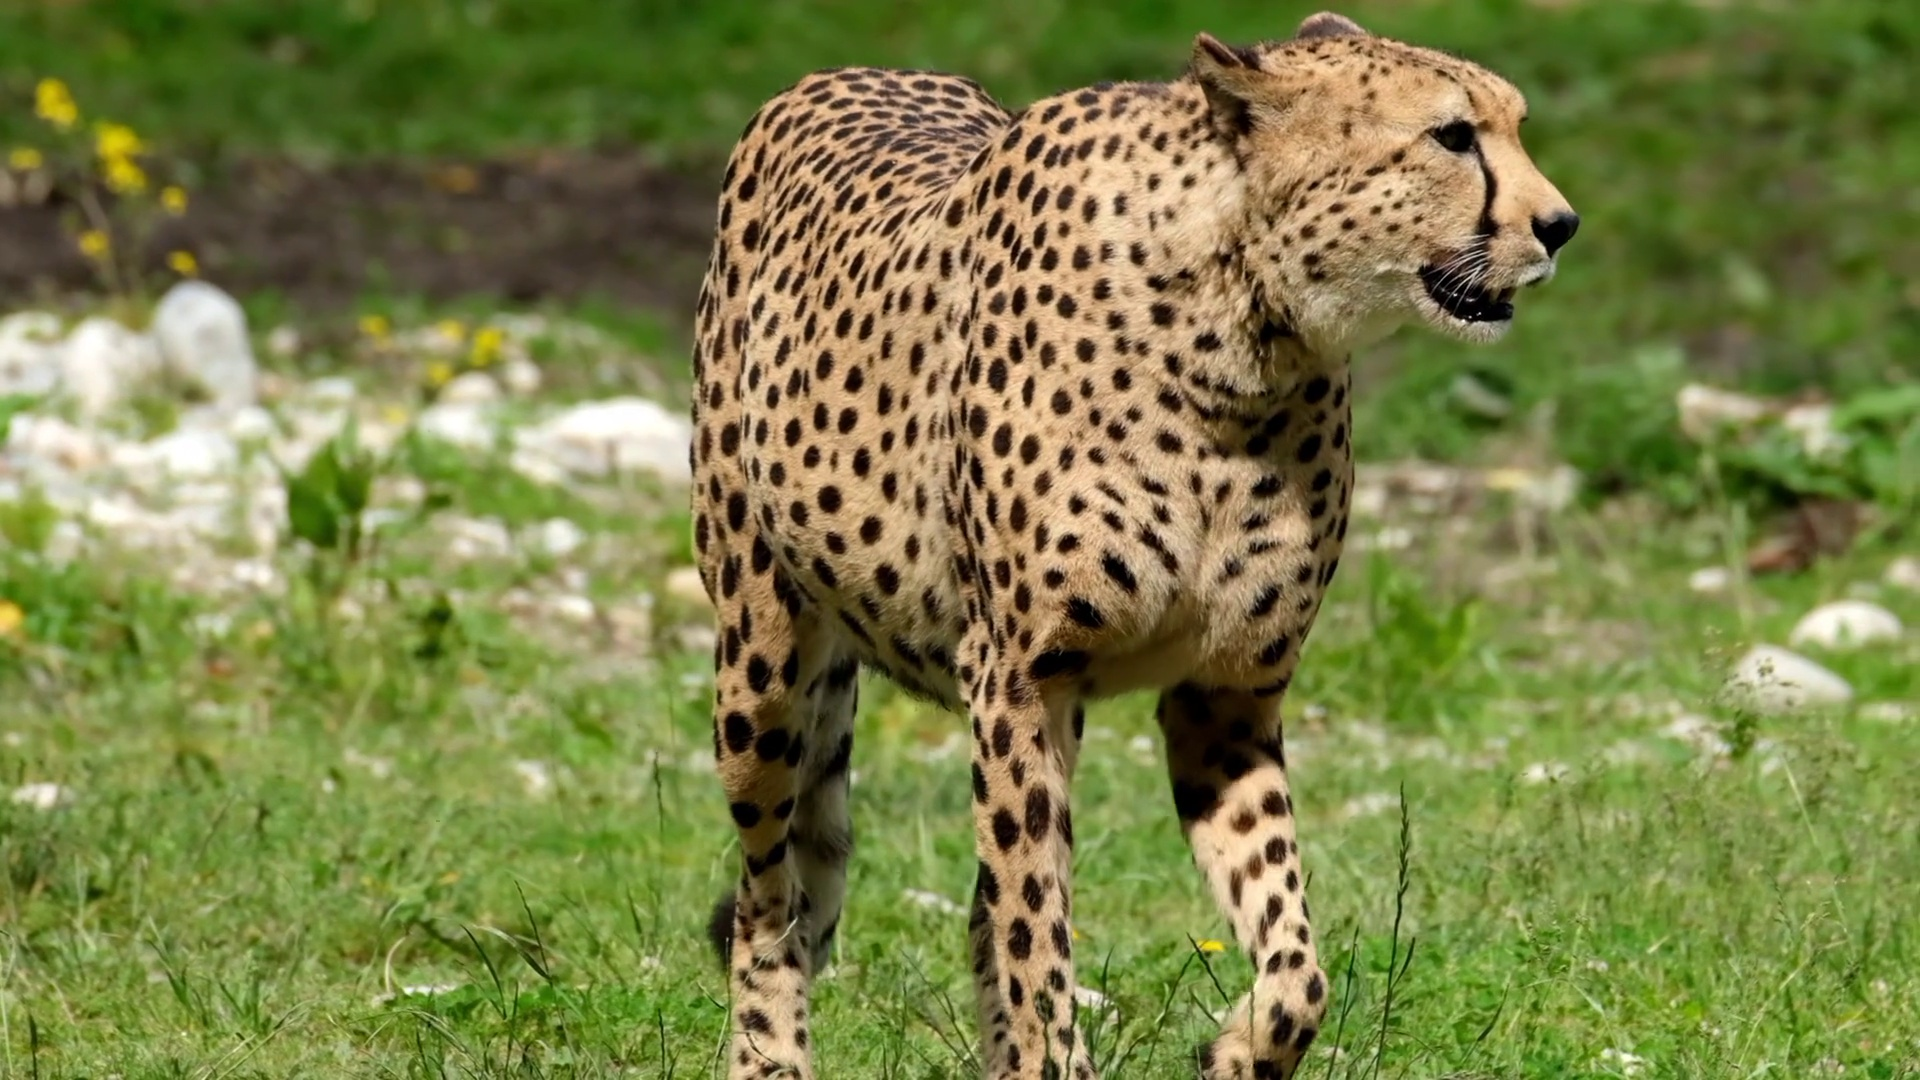Cheetah: (680, 11, 1581, 1080)
